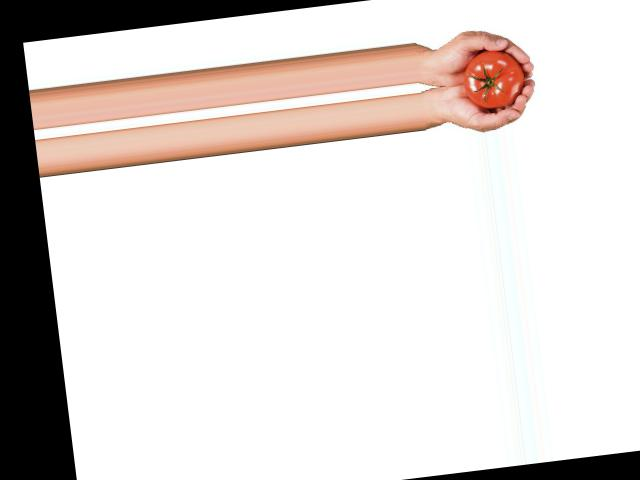tomato: (461, 46, 526, 111)
